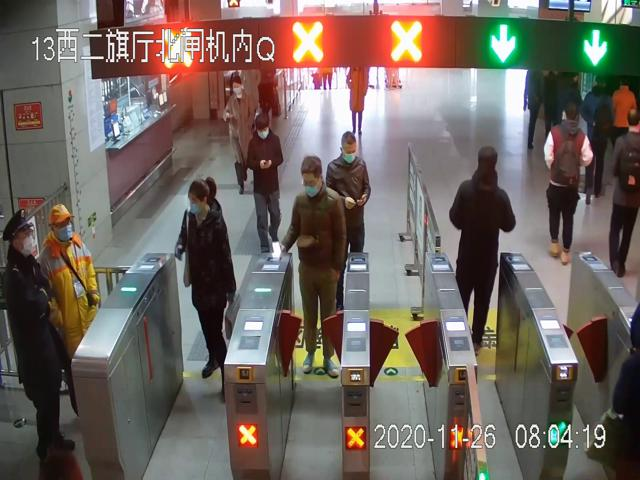person: (1, 209, 82, 456), (174, 176, 241, 398), (282, 155, 345, 379), (449, 147, 515, 352), (40, 203, 100, 419), (545, 105, 585, 264), (222, 75, 255, 196)
